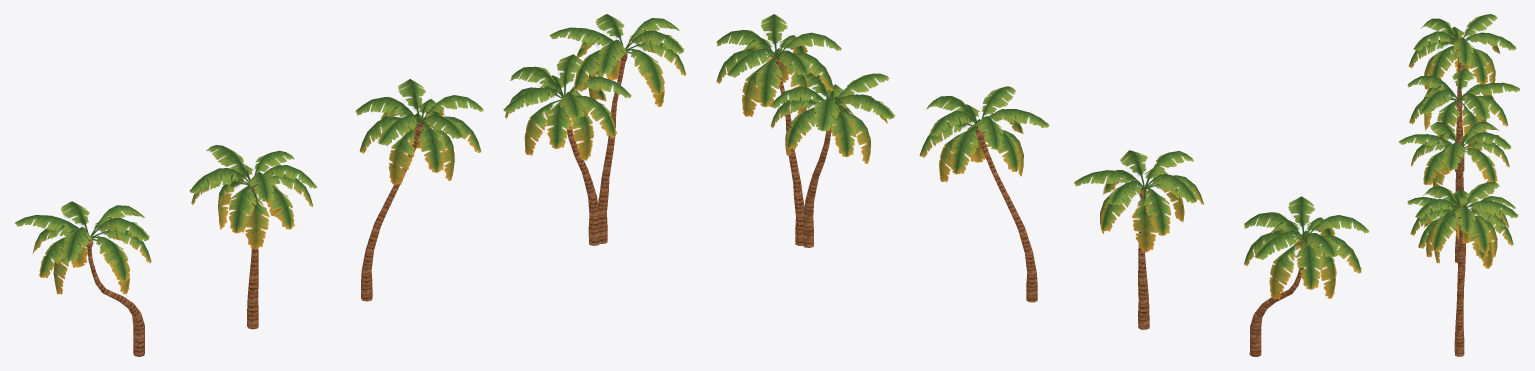
The model's file is palms.glb.
3 renders of one model, left to right at view 1: azimuth 30°, elevation 25°; view 2: azimuth 150°, elevation 25°; view 3: azimuth 270°, elevation 25°, orthographic. The views are drawn at different scales.
Parts seen in each view (by area): view 1: Leaf_4, Leaf_3, Leaf_2, Leaf_1, Bark_4, Bark_3, Bark_1, Bark_2; view 2: Leaf_4, Leaf_1, Leaf_2, Leaf_3, Bark_4, Bark_3, Bark_1, Bark_2; view 3: Leaf_4, Leaf_1, Leaf_3, Leaf_2, Bark_4, Bark_2, Bark_3, Bark_1.
Boxes of the visible parts, <box> form: Leaf_4: <box>503,14,686,160</box>; Leaf_3: <box>355,79,483,184</box>; Leaf_2: <box>189,145,317,249</box>; Leaf_1: <box>15,201,151,294</box>; Bark_4: <box>564,51,627,245</box>; Bark_3: <box>361,122,423,301</box>; Bark_1: <box>86,239,144,356</box>; Bark_2: <box>247,186,258,329</box>; Leaf_4: <box>716,14,895,163</box>; Leaf_1: <box>1244,196,1368,299</box>; Leaf_2: <box>1074,150,1203,252</box>; Leaf_3: <box>919,86,1049,182</box>; Bark_4: <box>774,58,833,247</box>; Bark_3: <box>975,127,1037,302</box>; Bark_1: <box>1249,241,1304,356</box>; Bark_2: <box>1138,187,1149,329</box>; Leaf_4: <box>1407,181,1518,268</box>; Leaf_1: <box>1408,14,1516,89</box>; Leaf_3: <box>1398,121,1511,197</box>; Leaf_2: <box>1407,68,1520,152</box>; Bark_4: <box>1454,216,1465,356</box>; Bark_2: <box>1455,100,1463,191</box>; Bark_3: <box>1455,154,1461,263</box>; Bark_1: <box>1455,48,1464,171</box>.
Bounding box in the file's own units: 17.15 × 5.31 × 3.44.
7 materials, 7 textured.
